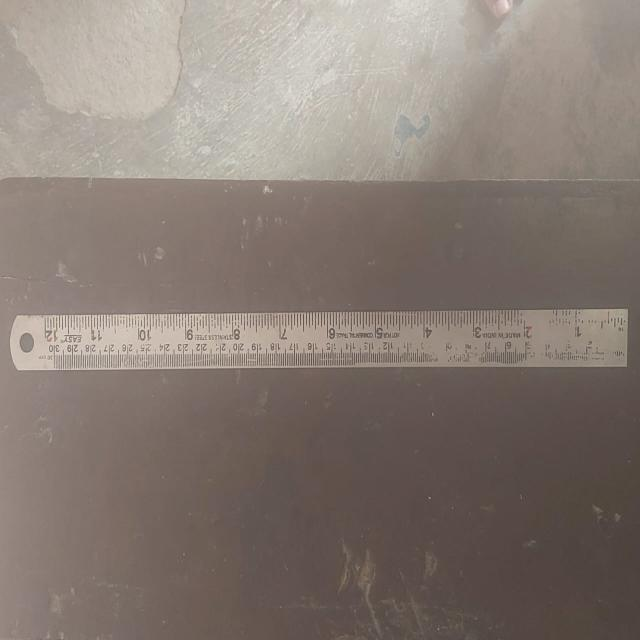scale: (11, 310, 633, 366)
